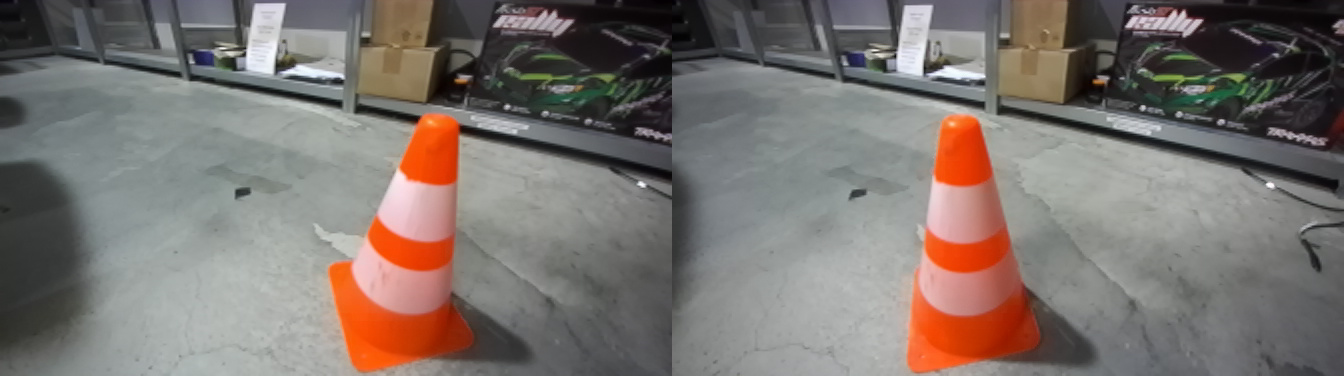cone: (325, 115, 483, 376), (908, 117, 1046, 376)
